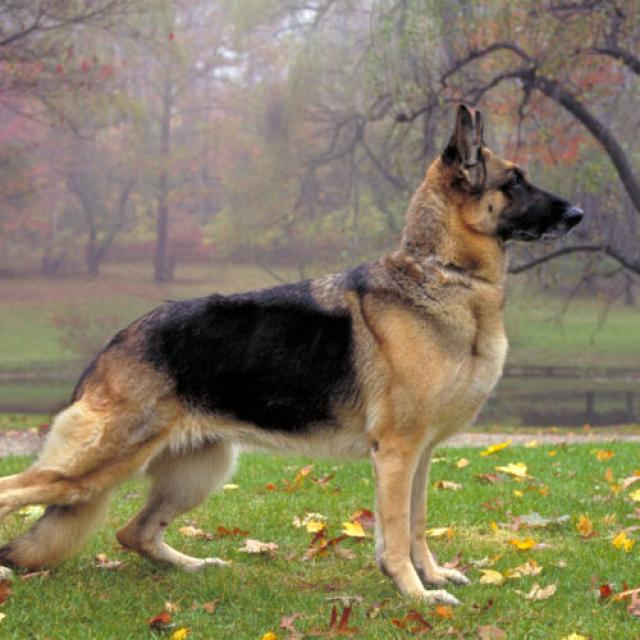GERMAN_SHEPHERD: (16, 108, 607, 600)
